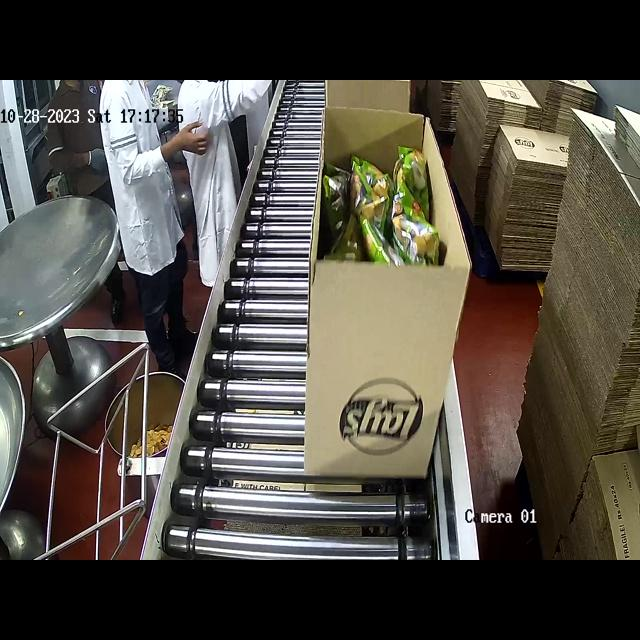yogurt: (334, 146, 449, 288)
